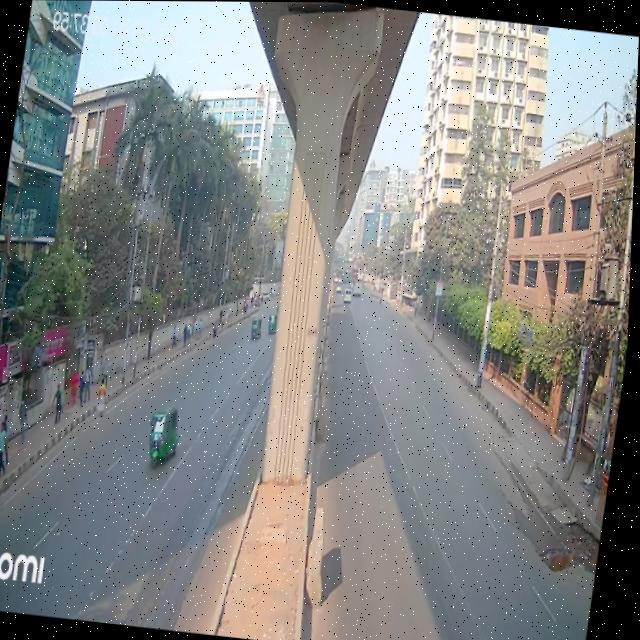cng: (141, 392, 189, 475), (249, 314, 267, 343)
